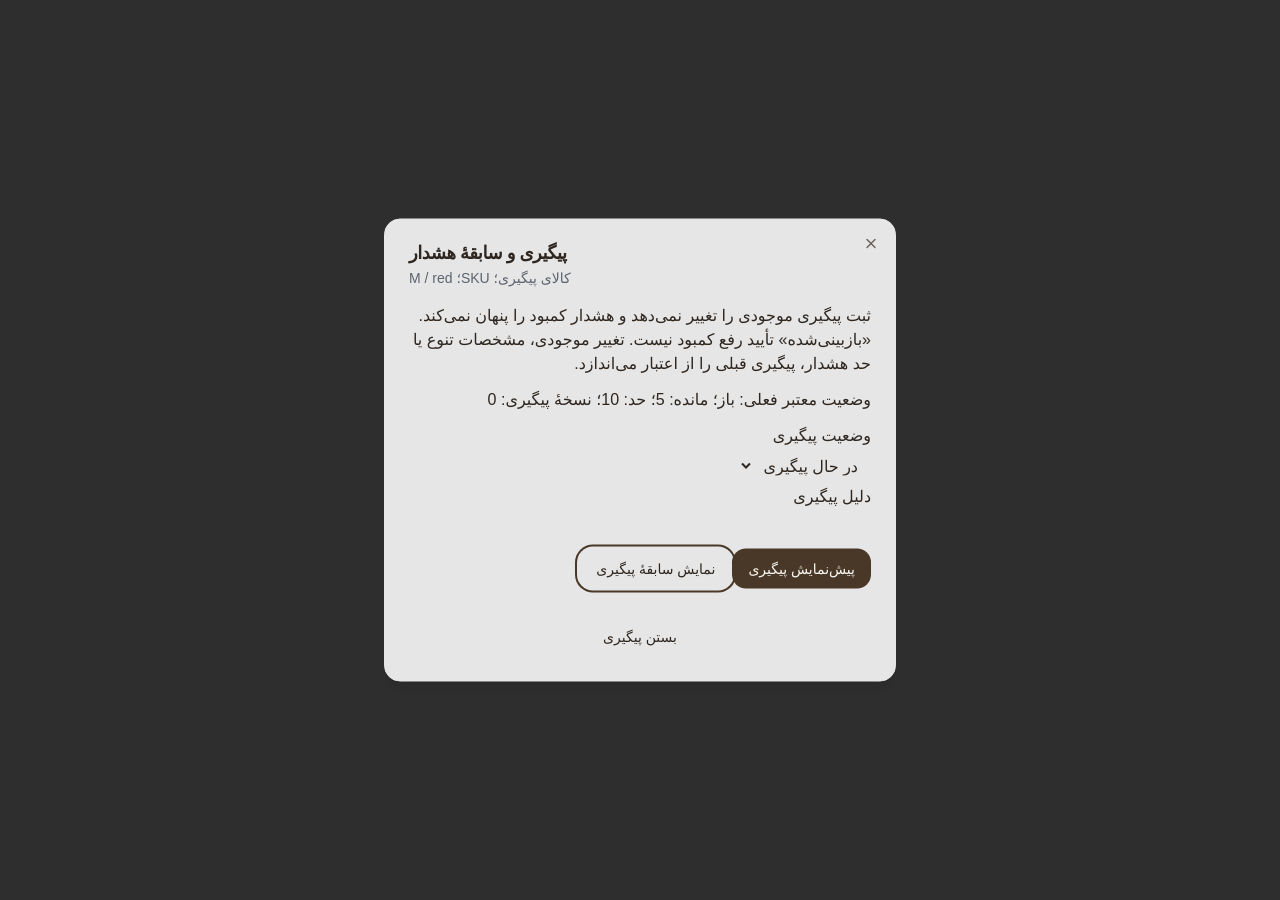
Test: discards a rejected stale command and requires a new preview
Type "checked stock context" into the field labelled "دلیل پیگیری".
click(640, 528); type("checked stock context")  # box top-left (409, 508), bottom-right (871, 548)
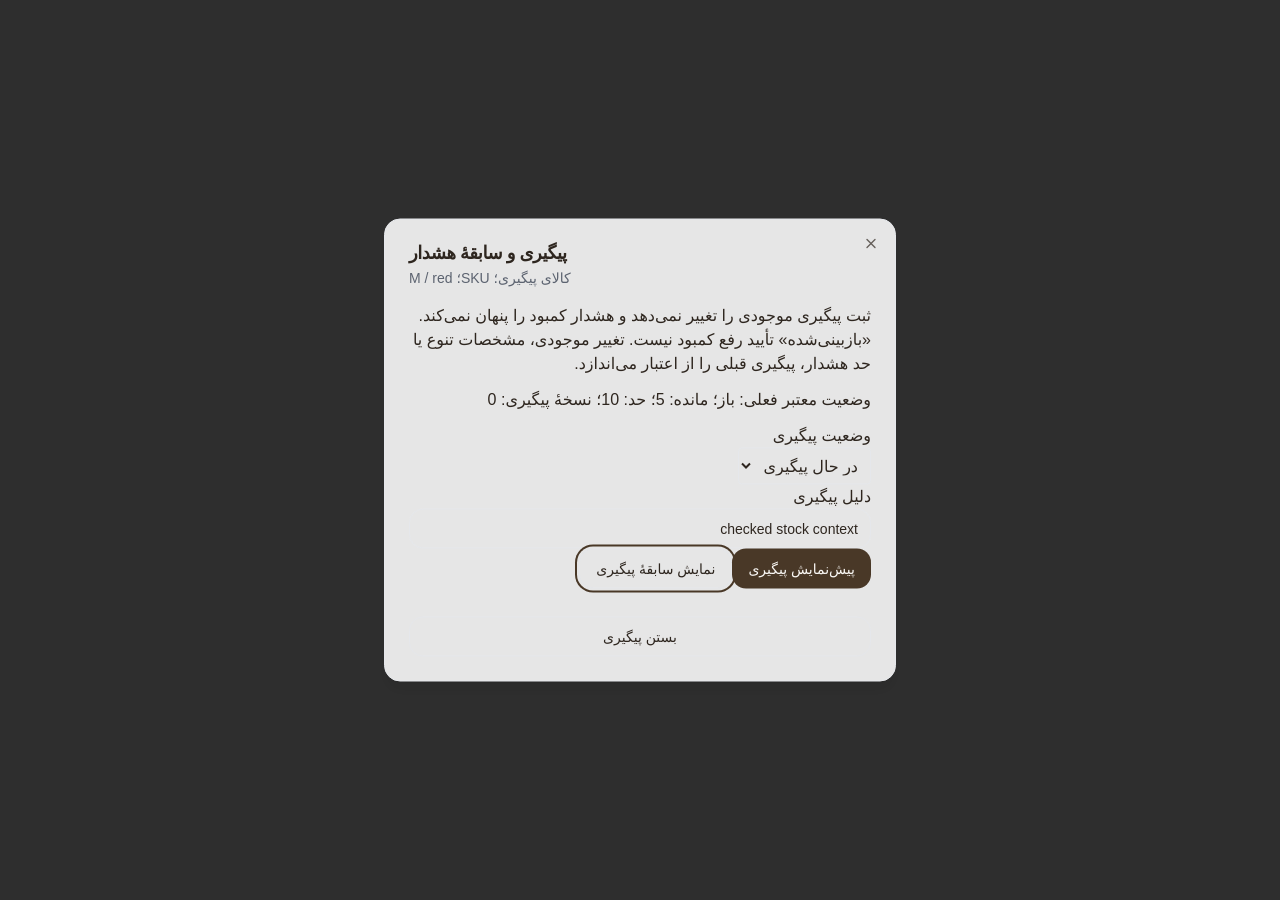
Click the button "پیش‌نمایش پیگیری".
click(802, 568)  # box top-left (732, 548), bottom-right (871, 588)
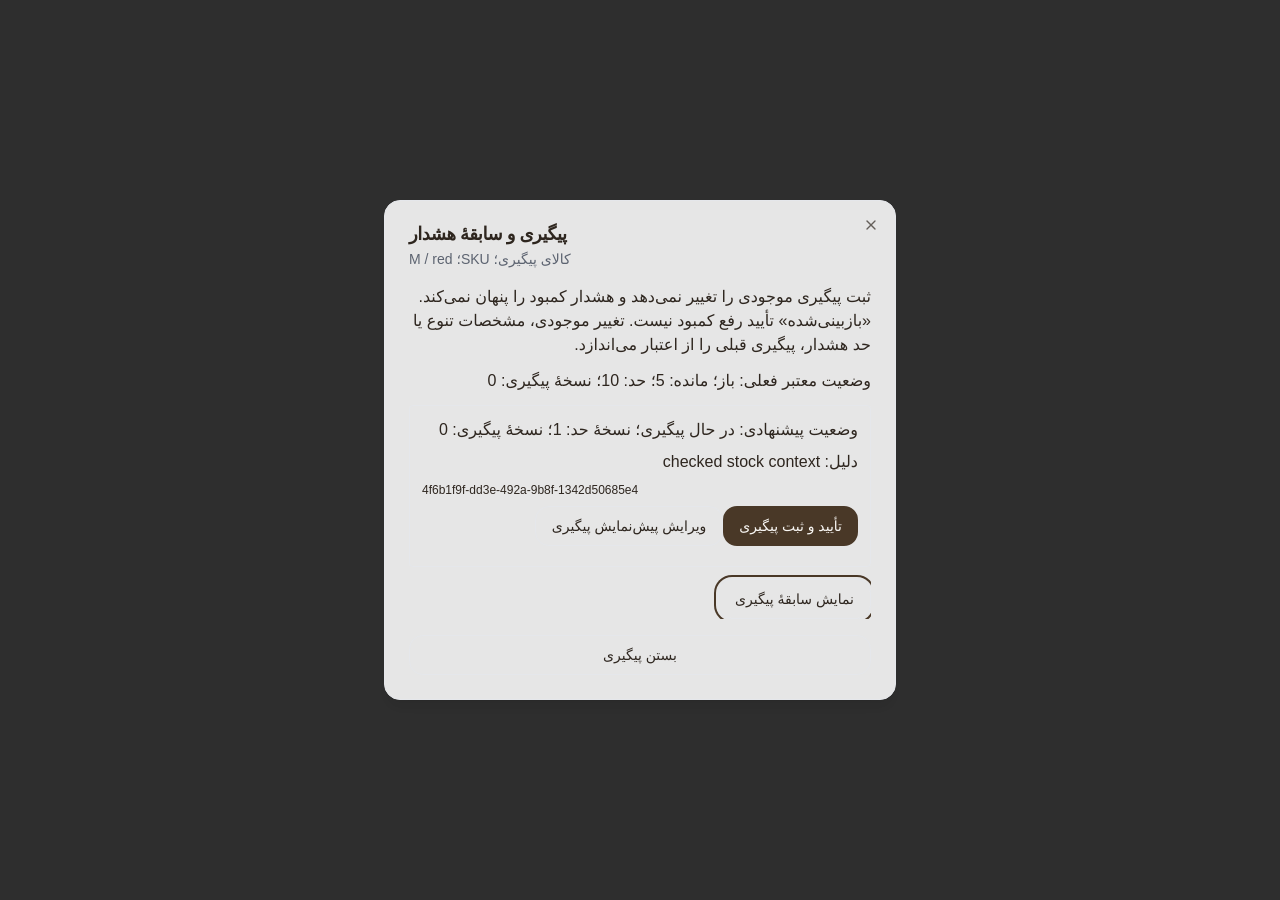
Click the button "تأیید و ثبت پیگیری".
click(791, 526)  # box top-left (723, 506), bottom-right (858, 546)
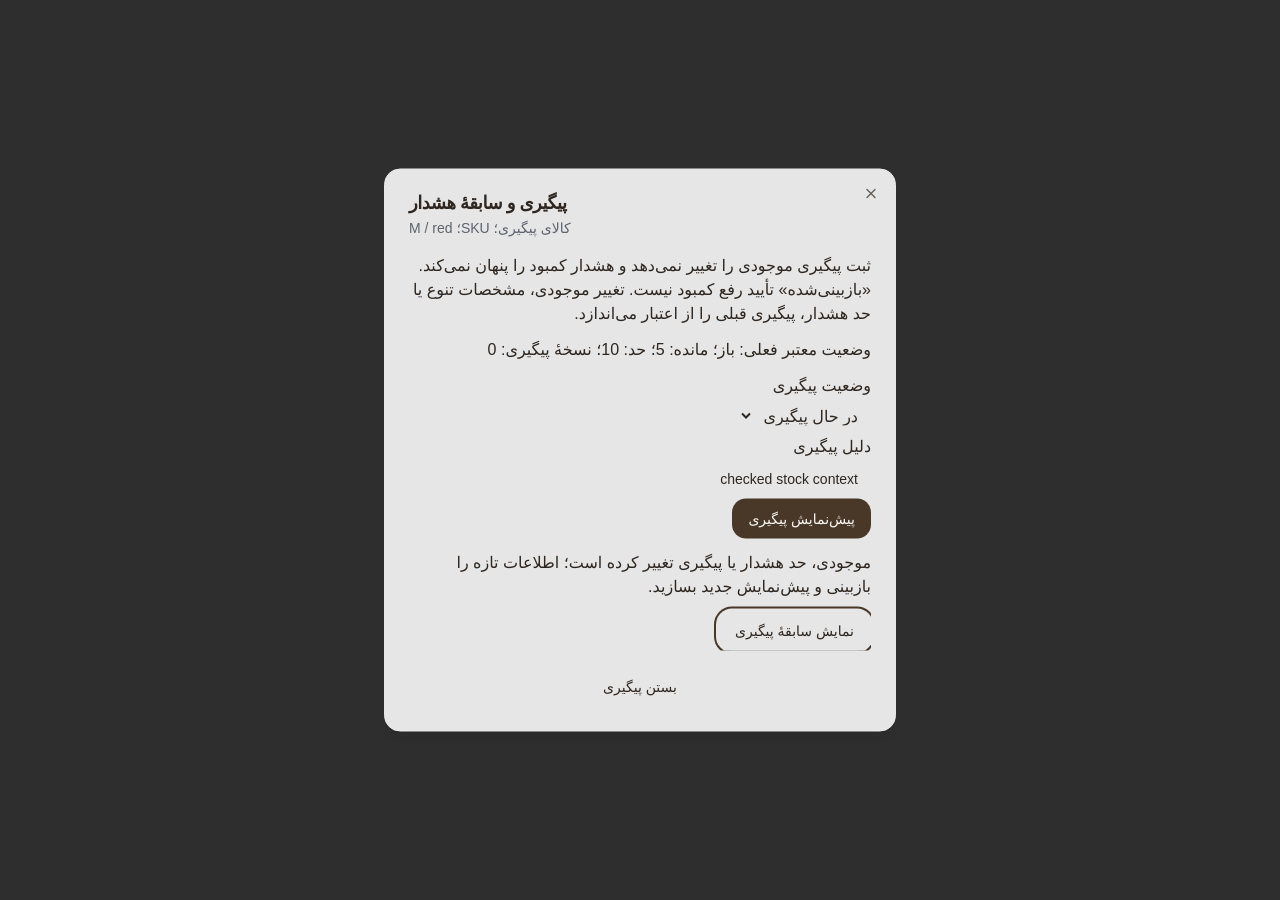
Expected: the button "پیش‌نمایش پیگیری" is shown, top-left (732, 498), bottom-right (871, 538)
Expected: the text "اطلاعات تازه را بازبینی" is shown, top-left (456, 554), bottom-right (871, 594)
